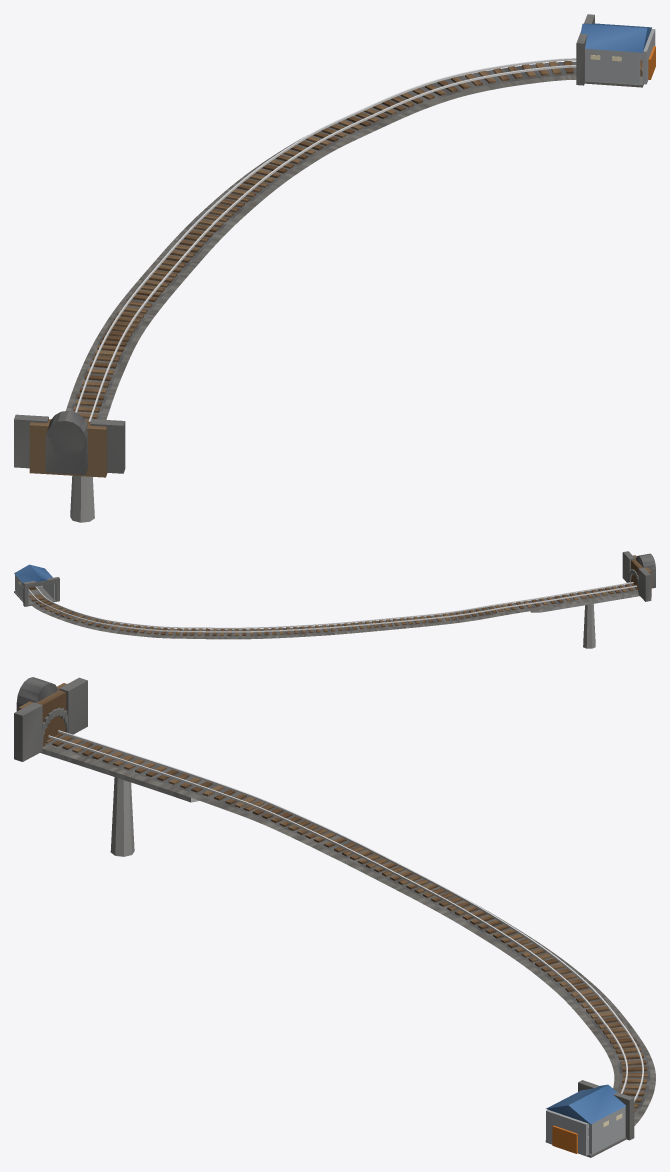
The model's file is Rail_P1.fbx.
3 renders of one model, top to bottom at view 1: azimuth 30°, elevation 25°; view 2: azimuth 150°, elevation 25°; view 3: azimuth 270°, elevation 25°, orthographic. The views are drawn at different scales.
Parts seen in each view (by area): view 1: Rail.Sleepers, Rail.Portal, Rail.Bed, Rail.Ballast, Rail.Shed, Rail.Rail.001, Rail.Rail, Rail.Piers; view 2: Rail.Sleepers, Rail.Bed, Rail.Ballast, Rail.Shed, Rail.Rail.001, Rail.Portal, Rail.Rail, Rail.Piers, Rail.Deck0; view 3: Rail.Sleepers, Rail.Bed, Rail.Shed, Rail.Ballast, Rail.Portal, Rail.Rail.001, Rail.Rail, Rail.Piers, Rail.Deck0.
Part boxes in pixels (x1,y1,x2,y2): Rail.Sleepers: [73, 61, 573, 421]; Rail.Portal: [14, 410, 125, 477]; Rail.Bed: [71, 61, 576, 419]; Rail.Ballast: [66, 61, 576, 419]; Rail.Shed: [576, 14, 655, 87]; Rail.Rail.001: [75, 58, 576, 412]; Rail.Rail: [88, 65, 642, 421]; Rail.Piers: [70, 475, 94, 522]; Rail.Sleepers: [29, 583, 637, 635]; Rail.Bed: [28, 584, 638, 636]; Rail.Ballast: [32, 584, 638, 639]; Rail.Shed: [14, 564, 59, 606]; Rail.Rail.001: [28, 585, 637, 632]; Rail.Portal: [622, 551, 655, 601]; Rail.Rail: [35, 582, 633, 628]; Rail.Piers: [583, 604, 595, 648]; Rail.Deck0: [530, 593, 639, 612]; Rail.Sleepers: [46, 733, 647, 1135]; Rail.Bed: [44, 734, 650, 1139]; Rail.Shed: [545, 1080, 634, 1157]; Rail.Ballast: [42, 737, 655, 1125]; Rail.Portal: [14, 677, 87, 761]; Rail.Rail.001: [58, 730, 643, 1137]; Rail.Rail: [48, 735, 627, 1127]; Rail.Piers: [110, 777, 134, 856]; Rail.Deck0: [40, 749, 199, 802].
Bounding box in the file's own units: 21706 × 3406 × 13870.
